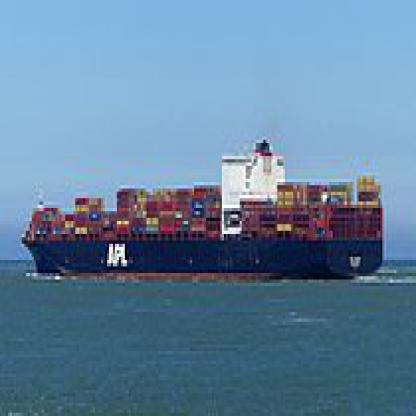Container Ship: (20, 137, 384, 279)
